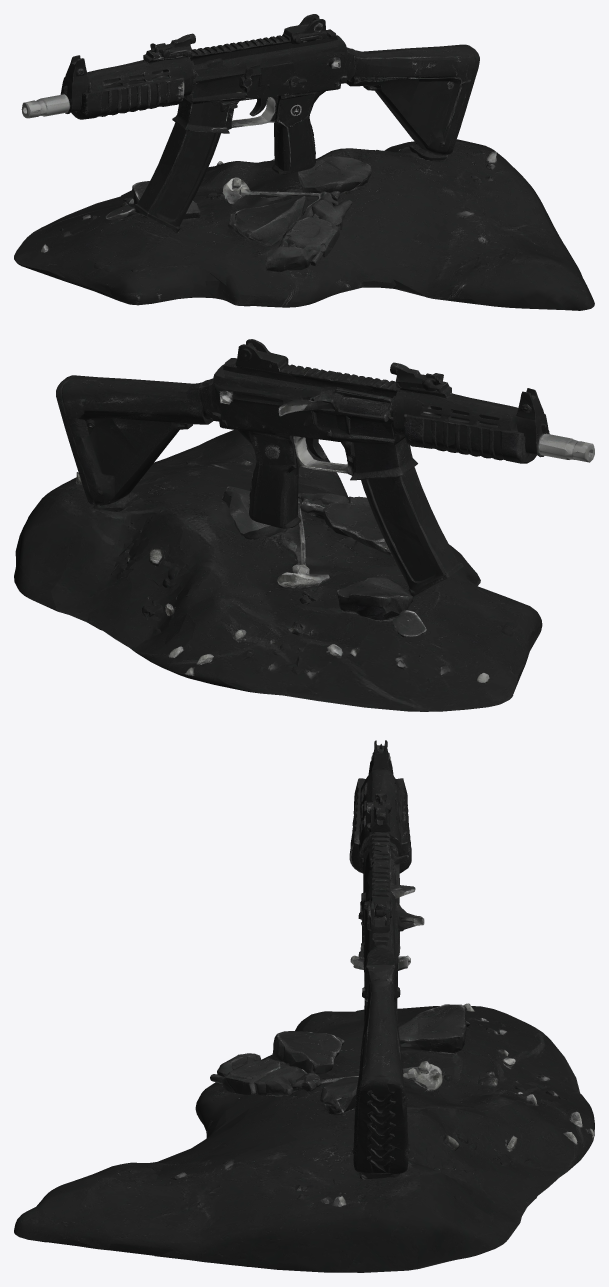
Rendered from smg_v2.glb.
3 renders of one model, top to bottom at view 1: azimuth 30°, elevation 25°; view 2: azimuth 150°, elevation 25°; view 3: azimuth 270°, elevation 25°, orthographic. The views are drawn at different scales.
Bounding box in the file's own units: 1.9 × 0.8658 × 1.64.
1 material, 1 textured.
